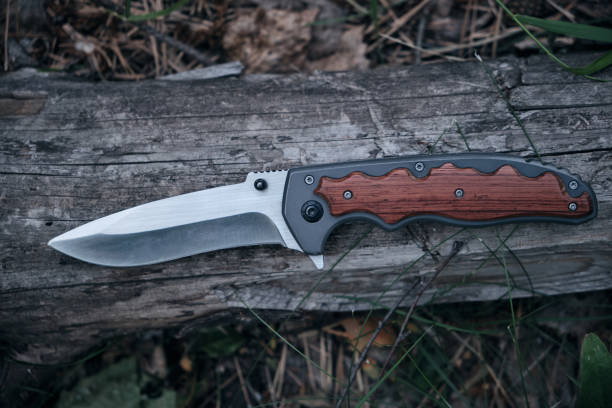knife: (44, 149, 600, 272)
